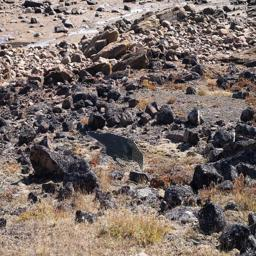Crow: (86, 131, 143, 170)
